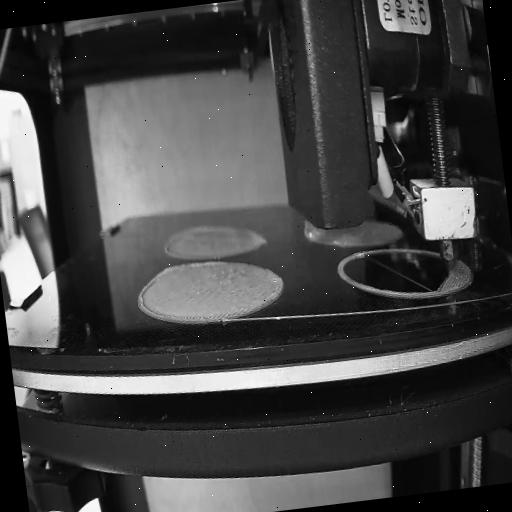over_extrusion: (136, 275, 164, 322)
